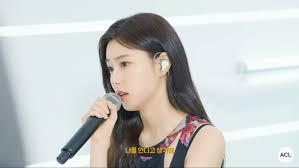earphone: (158, 59, 168, 71)
